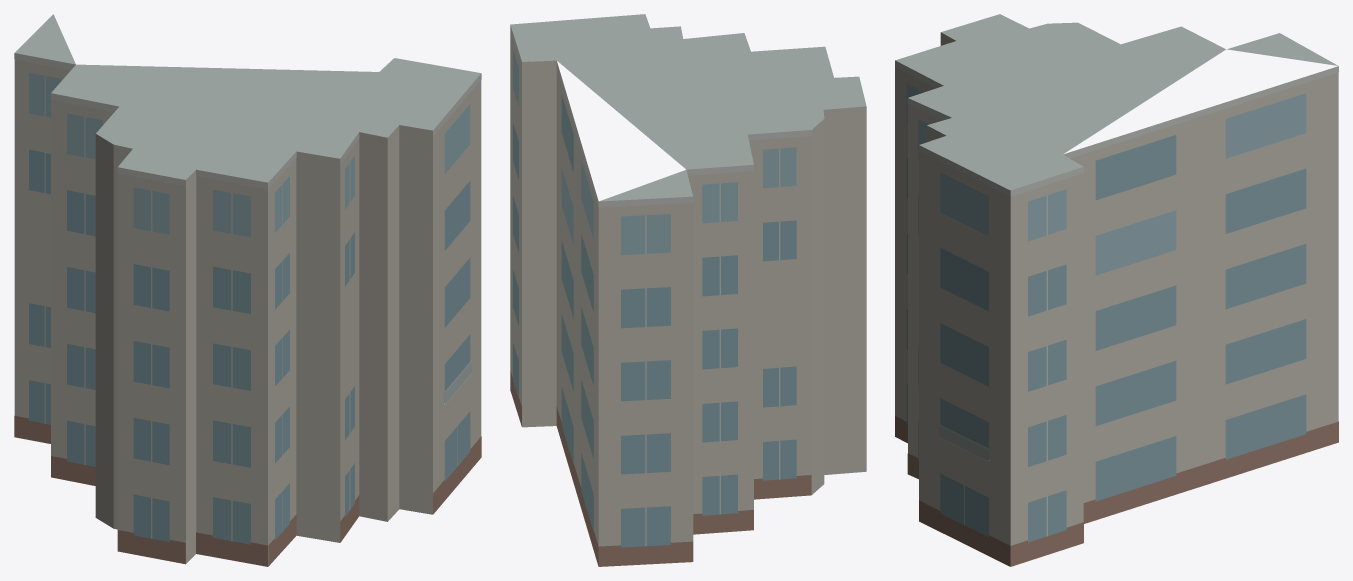
The model's file is survey-upis-32516429.glb.
3 views of the same model, side by side, from view 1: azimuth 30°, elevation 25°; view 2: azimuth 150°, elevation 25°; view 3: azimuth 270°, elevation 25° (orthographic). The views are drawn at different scales.
Parts seen in each view (by area): view 1: survey-upis-32516429.tmp; view 2: survey-upis-32516429.tmp; view 3: survey-upis-32516429.tmp.
Boxes of the visible parts, <box> form: survey-upis-32516429.tmp: <box>14,14,481,566</box>; survey-upis-32516429.tmp: <box>510,14,866,566</box>; survey-upis-32516429.tmp: <box>895,14,1338,566</box>.
Bounding box in the file's own units: 14.69 × 14.6 × 15.61.
